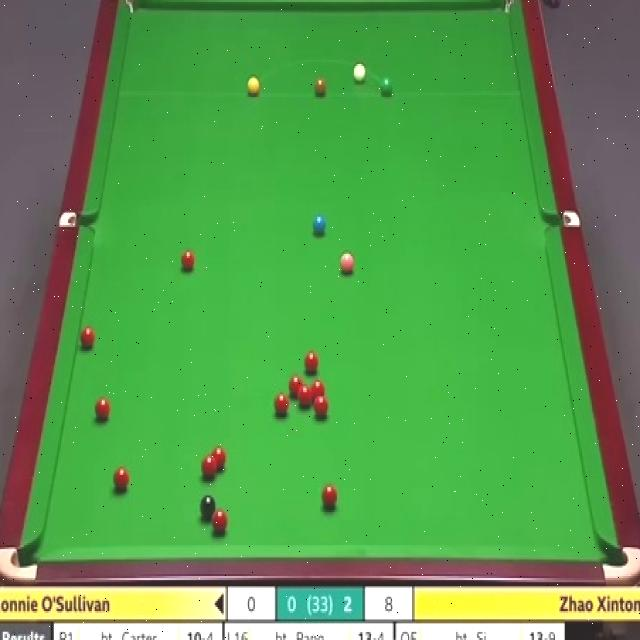black-ball: (200, 493, 218, 518)
blue-ball: (312, 212, 326, 238)
brown-ball: (313, 76, 327, 96)
green-ball: (379, 77, 392, 96)
pink-ball: (340, 254, 355, 276)
red-ball: (320, 480, 338, 512), (109, 465, 129, 491), (78, 326, 97, 352), (92, 394, 110, 421), (287, 372, 305, 398), (302, 351, 321, 373), (201, 454, 218, 478), (214, 509, 228, 536), (213, 447, 229, 470), (297, 386, 314, 407), (311, 381, 326, 404), (274, 391, 288, 414), (314, 394, 328, 416), (180, 252, 196, 270)
white-ball: (352, 62, 366, 84)
yellow-ball: (246, 76, 260, 96)
